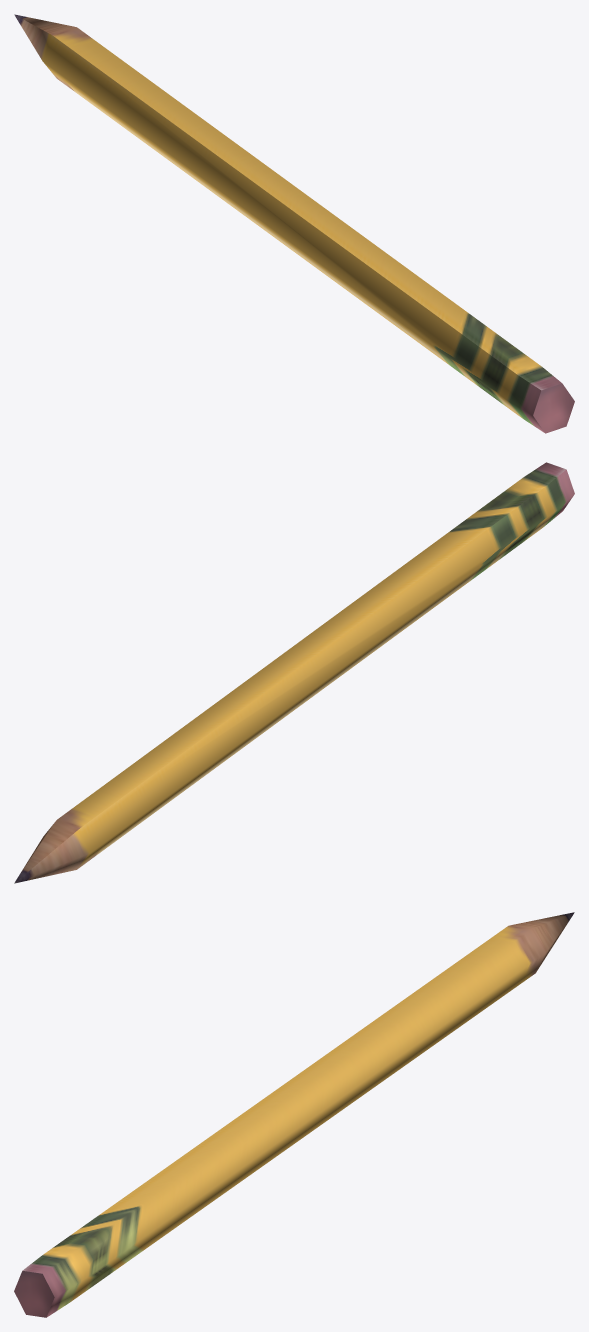
Rendered from Pencil_lod1.fbx.
3 views of the same model, one above another, from view 1: azimuth 30°, elevation 25°; view 2: azimuth 150°, elevation 25°; view 3: azimuth 330°, elevation 25° (orthographic). The views are drawn at different scales.
Parts seen in each view (by area): view 1: pencil6; view 2: pencil6; view 3: pencil6.
Part boxes in pixels (bbox=[...]): pencil6: bbox=[14, 14, 574, 433]; pencil6: bbox=[14, 462, 574, 883]; pencil6: bbox=[14, 912, 574, 1317].
Size of the model in its own units: 0.1111 by 0.1038 by 1.94.
